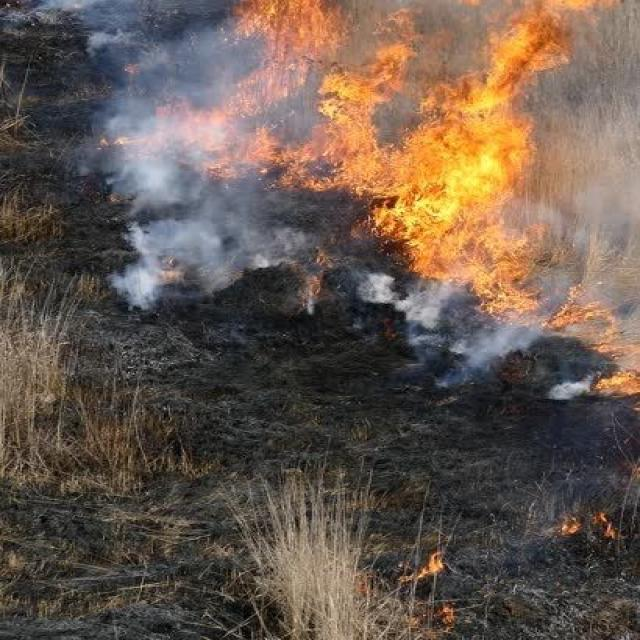Fire: (192, 0, 640, 379)
Smoke: (4, 0, 640, 449)
